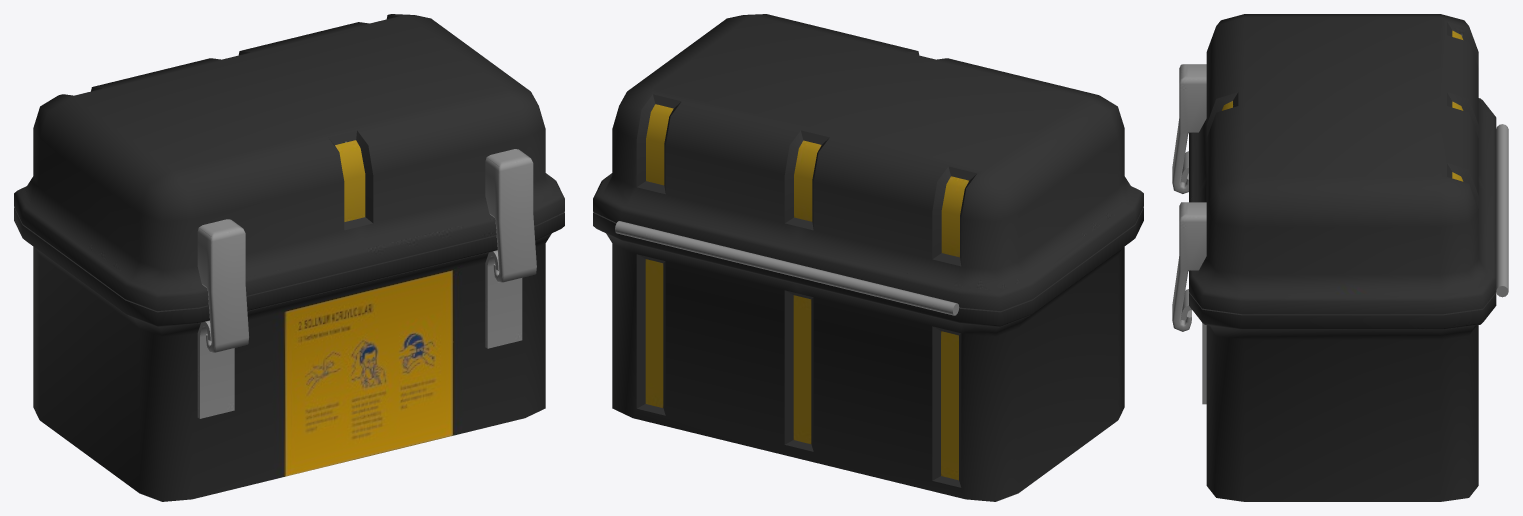
The model's file is SM_LifeSaverUnit.fbx.
3 views of the same model, side by side, from view 1: azimuth 30°, elevation 25°; view 2: azimuth 150°, elevation 25°; view 3: azimuth 270°, elevation 25° (orthographic).
Visible parts, largest first — view 1: Kap1; view 2: Kap1; view 3: Kap1.
Part boxes in pixels (bbox=[...]): Kap1: bbox=[14, 14, 564, 501]; Kap1: bbox=[593, 14, 1143, 501]; Kap1: bbox=[1172, 14, 1508, 501].
Size of the model in its own units: 21.55 by 15.06 by 14.85.
1 material, 1 textured.
